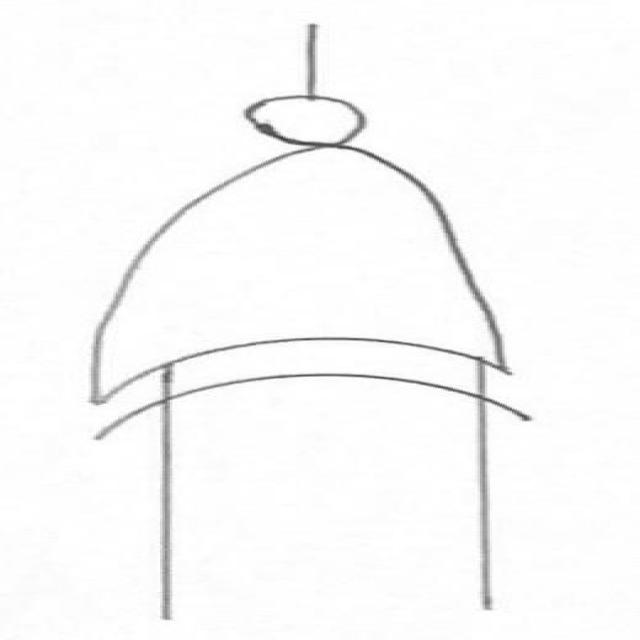XNOR: (40, 81, 588, 446)
